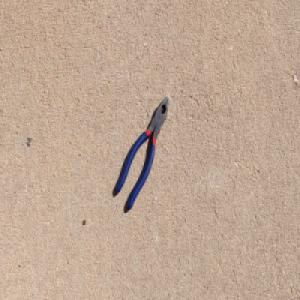Pliers: (114, 94, 170, 211)
